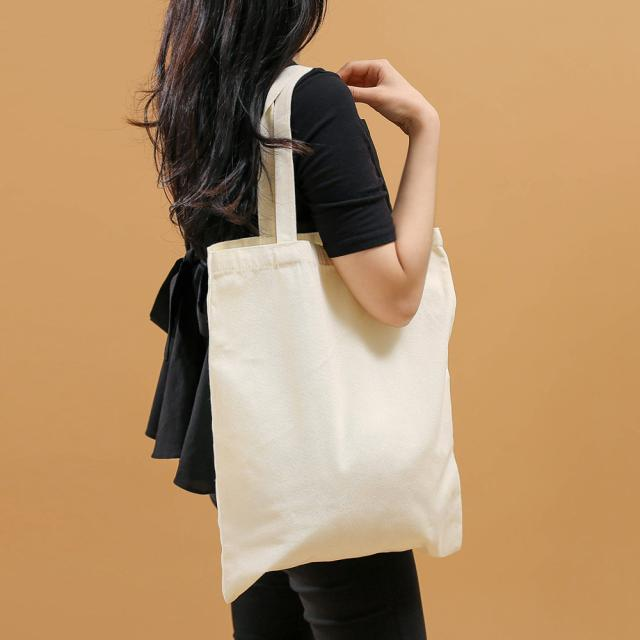ecobag: (181, 64, 489, 592)
